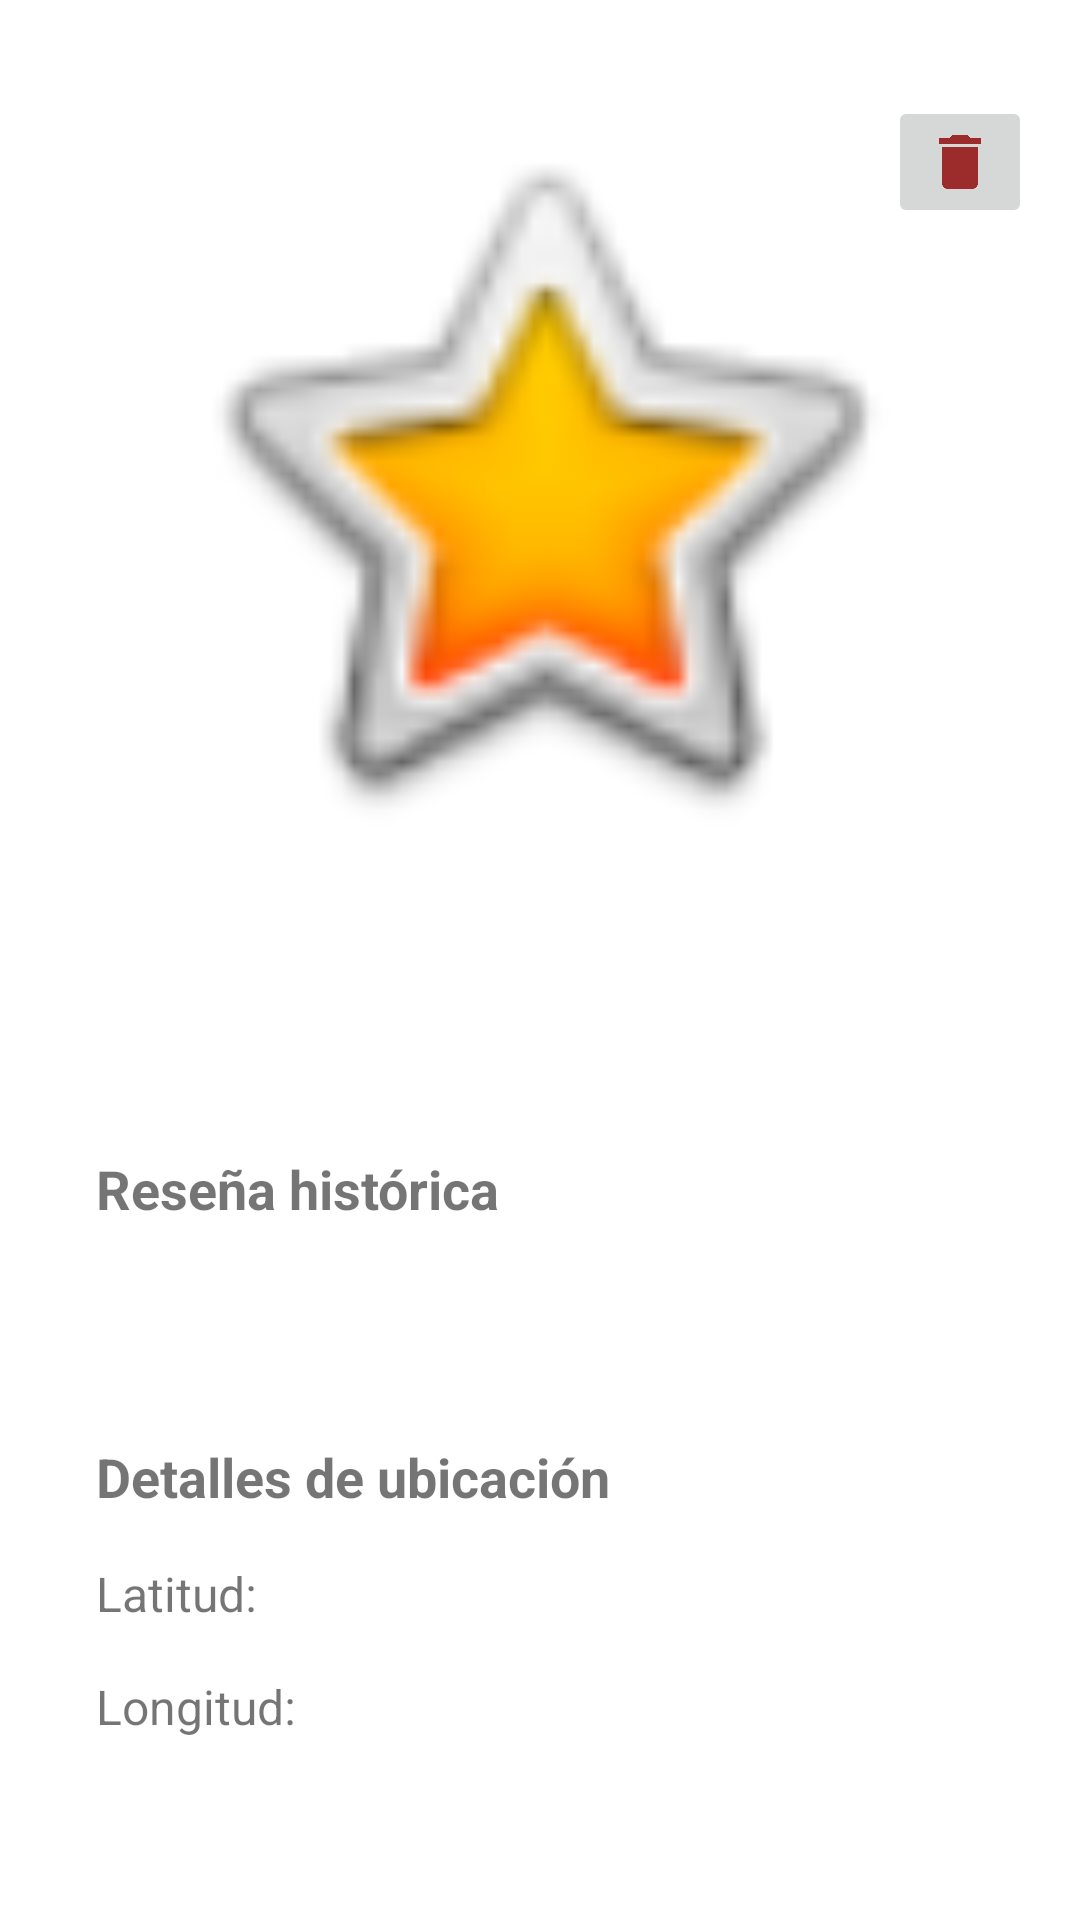

Screen size 1080x1920. Icon name, then its center in pixels as [x,y]:
delete: [960,162]
